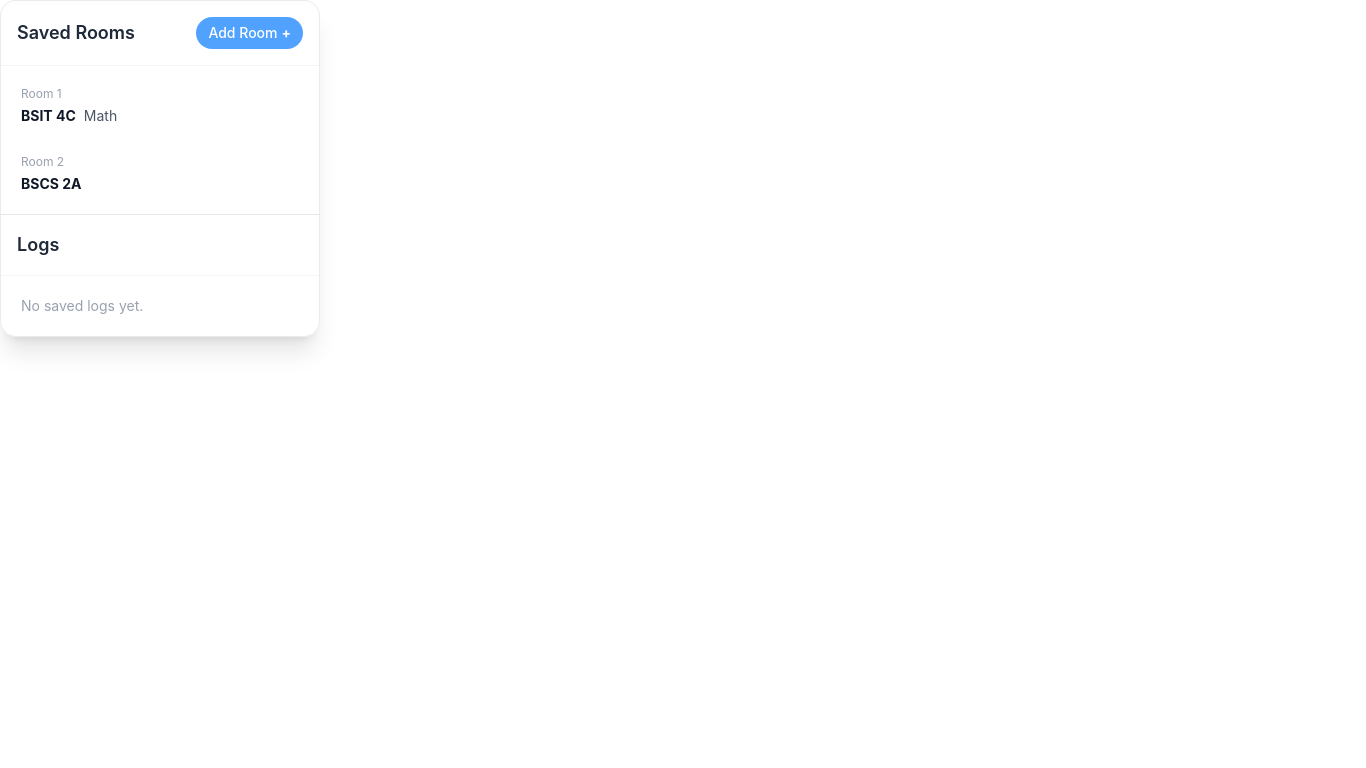
Test case: CASE-023: open a saved room › opens the room that was clicked, not another one
What coordinates should you click on to do the following:
click the text "Room 2"
I would click on:
 (43, 162)
Its box is left=21, top=154, right=64, bottom=169.
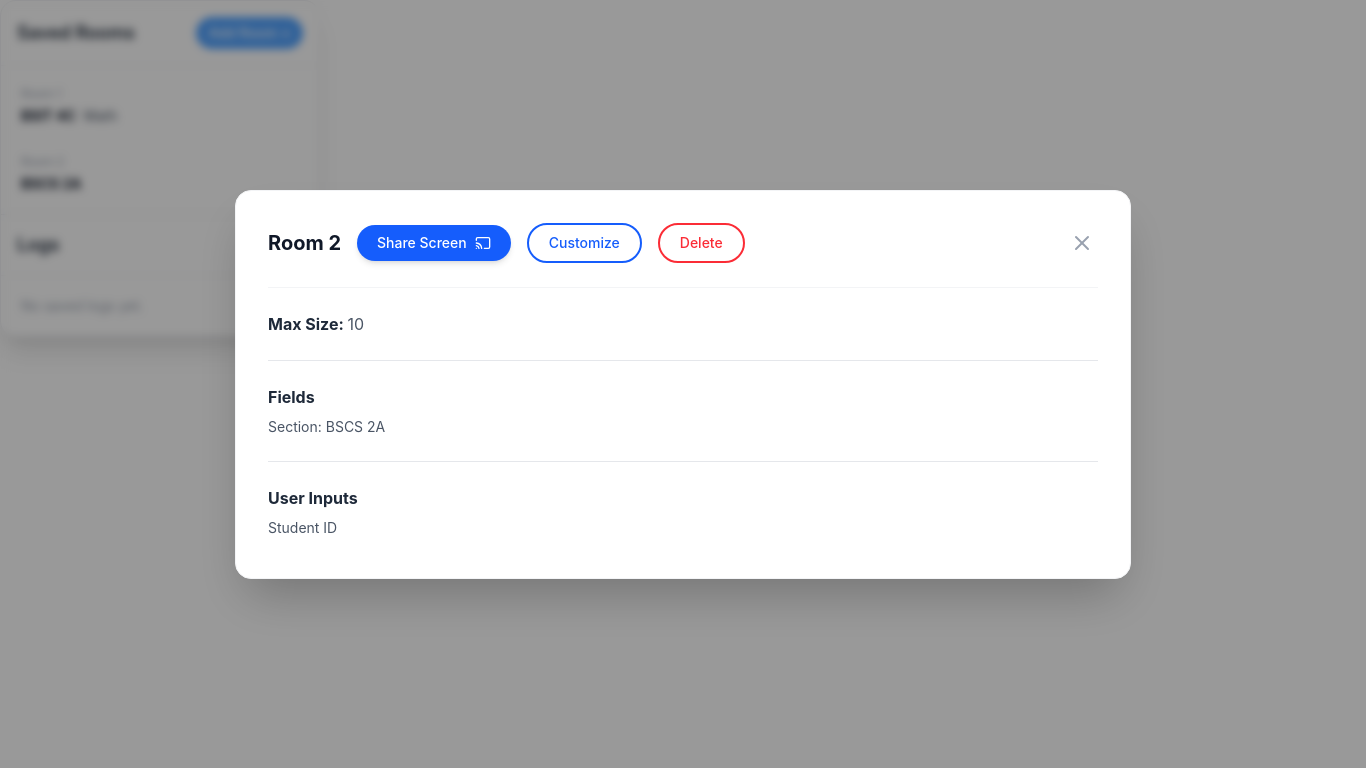
Result: the heading "Room 2" is shown at left=268, top=228, right=341, bottom=256
Result: the element showing "Max Size: 10" is shown at left=268, top=314, right=364, bottom=334
